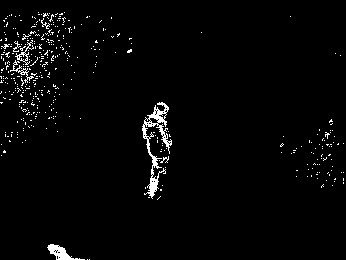person: (135, 99, 174, 202)
